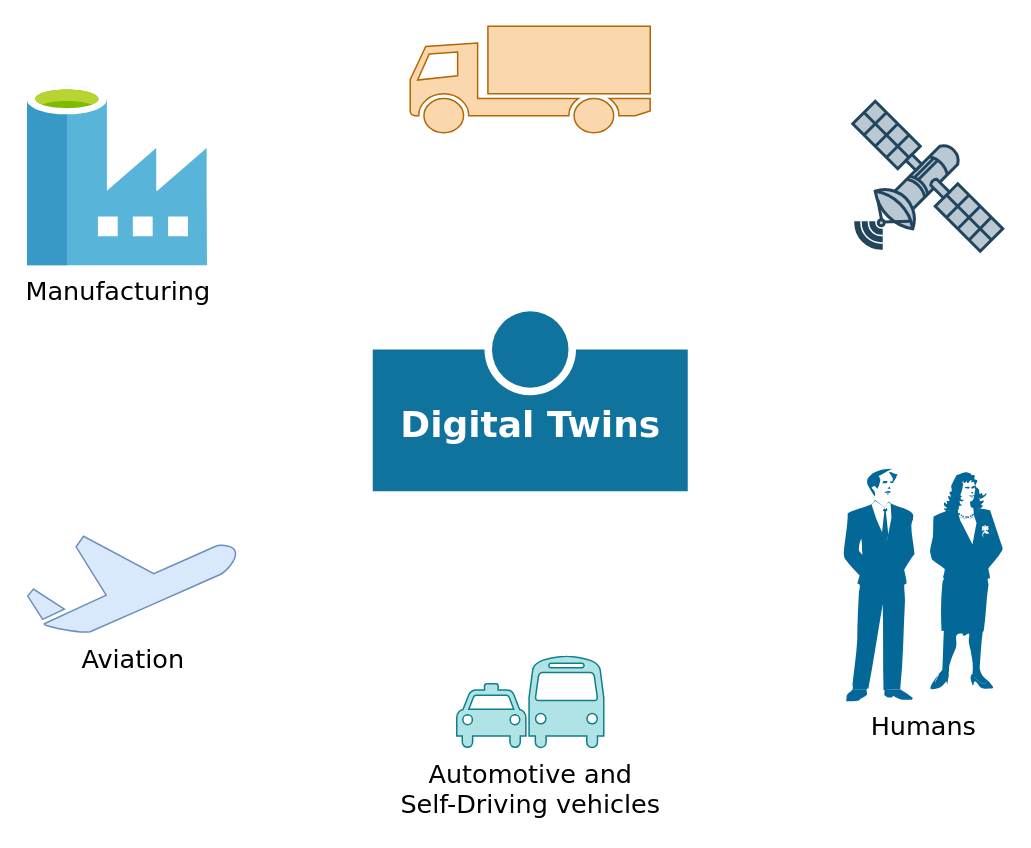
Image size: 1031x848. Some labels were removed from this diagram. The shapes that lost their labels are listed below. From the top down, each one's box as (x1, y1, x2, y2) in pixels, then its label:
(409, 25, 650, 133): Supply Chains
(850, 99, 1004, 252): Aerospace
